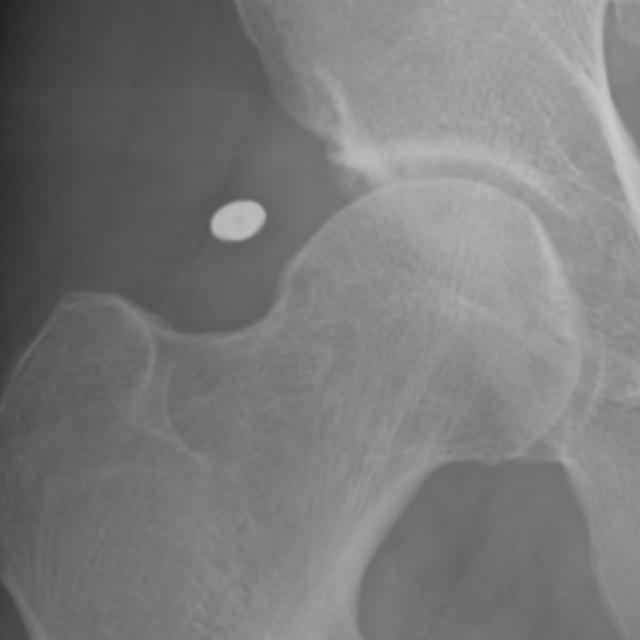Fitted_femural_head: (310, 179, 432, 310)
